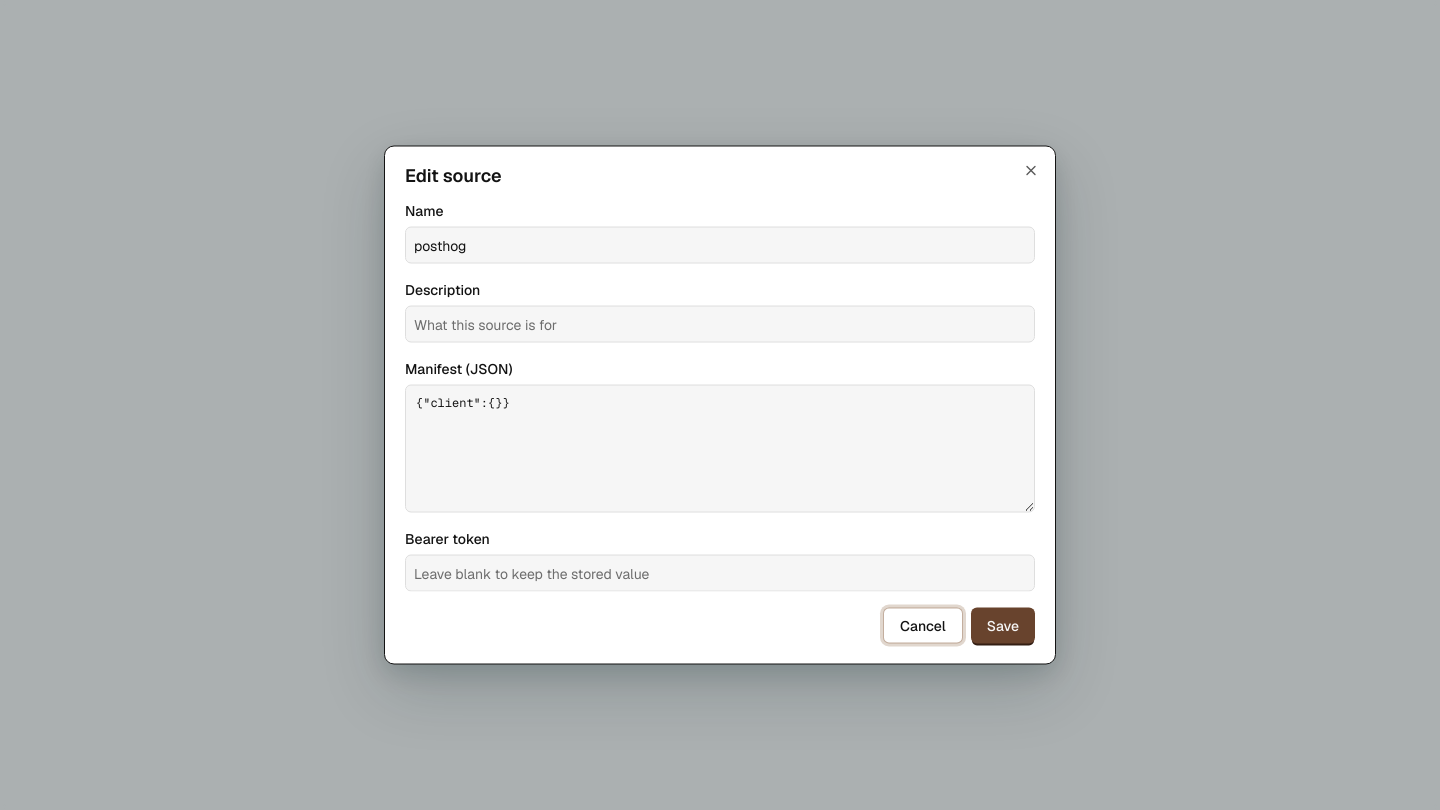
Test case: EditSourceDialog › keeps the dialog open and shows why when the connection test fails
Expected: the text box showing "{\"client\":{}}" is shown, [405, 384, 1035, 512]
Click the button "Save" at (1003, 626), box [971, 608, 1035, 644]
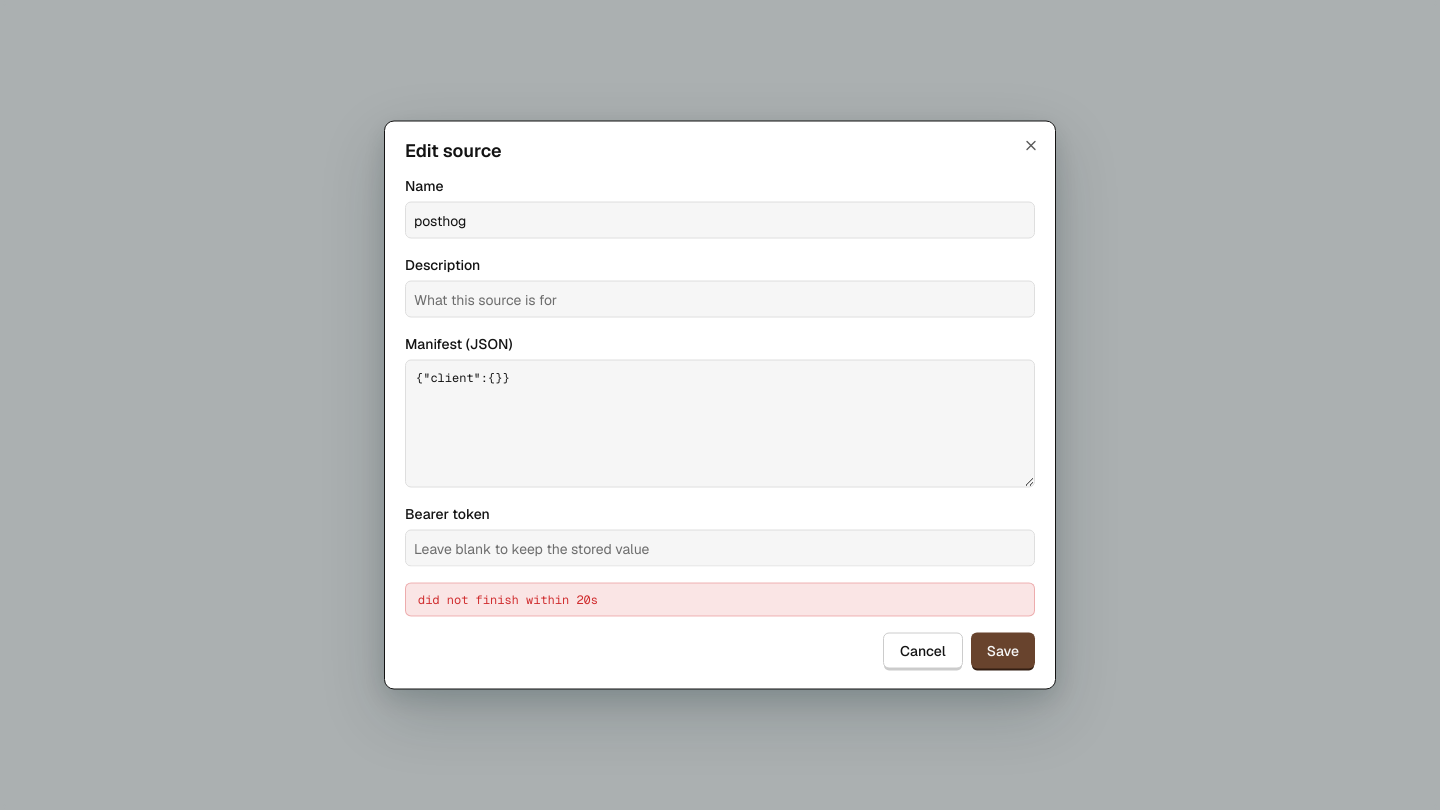
Result: the message shows "did not finish" at [418, 592, 598, 608]
